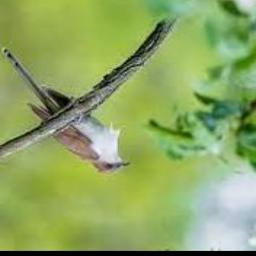Cuckoo: (1, 48, 131, 174)
